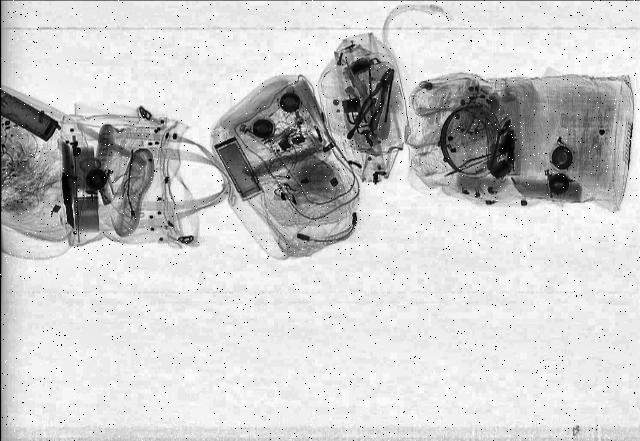Pliers: (348, 66, 400, 129)
